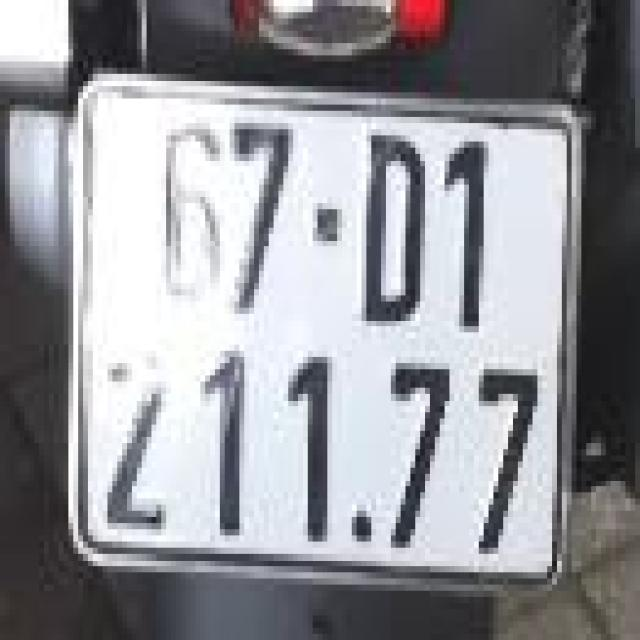1: (281, 338, 349, 542), (198, 338, 256, 530), (440, 142, 493, 332)
2: (100, 329, 183, 551)
6: (164, 117, 227, 295)
7: (471, 351, 540, 560), (393, 363, 457, 554), (232, 120, 291, 305)
D: (347, 129, 435, 326)
